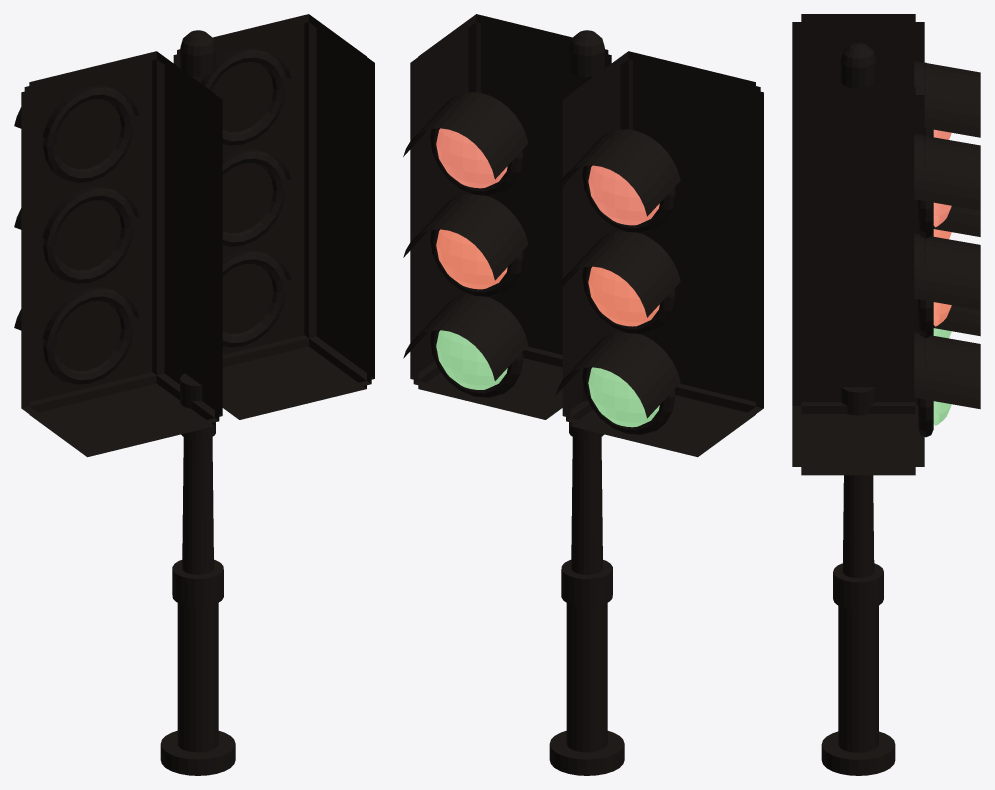
The model's file is 35-traffic-light-bs2.glb.
3 renders of one model, left to right at view 1: azimuth 30°, elevation 25°; view 2: azimuth 150°, elevation 25°; view 3: azimuth 270°, elevation 25°, orthographic.
Parts seen in each view (by area): view 1: HeadL, HeadR, PoleLower, PoleUpper, Bezel_red_-0.34, Bezel_orange_-0.34, Bezel_green_-0.34, Bezel_red_+0.34, BaseFlange, Bezel_green_+0.34, Bezel_orange_+0.34, CollarRing (+6 smaller); view 2: HeadL, HeadR, PoleLower, Hood_red_+0.34, Hood_red_-0.34, Hood_orange_+0.34, Hood_orange_-0.34, Hood_green_-0.34, Hood_green_+0.34, PoleUpper, Lens_orange_-0.34, Lens_red_+0.34 (+14 smaller); view 3: HeadR, HeadL, PoleLower, Hood_red_+0.34, Hood_green_+0.34, Hood_orange_+0.34, Hood_red_-0.34, PoleUpper, BaseFlange, CollarRing, Hood_orange_-0.34, Hood_green_-0.34 (+6 smaller).
Part boxes in pixels (<box>): HeadL: <box>21,51,222,457</box>; HeadR: <box>173,14,374,419</box>; PoleLower: <box>177,603,218,752</box>; PoleUpper: <box>182,437,213,574</box>; Bezel_red_-0.34: <box>43,85,134,182</box>; Bezel_orange_-0.34: <box>43,186,134,283</box>; Bezel_green_-0.34: <box>43,287,134,384</box>; Bezel_red_+0.34: <box>205,48,286,145</box>; BaseFlange: <box>160,730,235,775</box>; Bezel_green_+0.34: <box>222,250,286,347</box>; Bezel_orange_+0.34: <box>222,149,286,246</box>; CollarRing: <box>172,559,223,606</box>; HeadL: <box>562,51,763,457</box>; HeadR: <box>410,14,611,419</box>; PoleLower: <box>566,603,607,752</box>; Hood_red_+0.34: <box>403,92,528,179</box>; Hood_red_-0.34: <box>555,129,680,216</box>; Hood_orange_+0.34: <box>403,193,528,280</box>; Hood_orange_-0.34: <box>555,230,680,317</box>; Hood_green_-0.34: <box>555,331,680,418</box>; Hood_green_+0.34: <box>403,294,528,380</box>; PoleUpper: <box>571,437,602,574</box>; Lens_orange_-0.34: <box>588,266,659,326</box>; Lens_red_+0.34: <box>436,128,507,188</box>; HeadR: <box>792,87,924,475</box>; HeadL: <box>792,14,924,94</box>; PoleLower: <box>838,605,878,752</box>; Hood_red_+0.34: <box>914,134,980,210</box>; Hood_green_+0.34: <box>914,332,980,409</box>; Hood_orange_+0.34: <box>914,233,980,309</box>; Hood_red_-0.34: <box>914,61,980,137</box>; PoleUpper: <box>842,475,874,578</box>; BaseFlange: <box>821,731,895,775</box>; CollarRing: <box>833,563,883,609</box>; Hood_orange_-0.34: <box>933,206,980,236</box>; Hood_green_-0.34: <box>933,305,980,336</box>.
Bounding box in the file's own units: 1.32 × 3.11 × 0.74.
